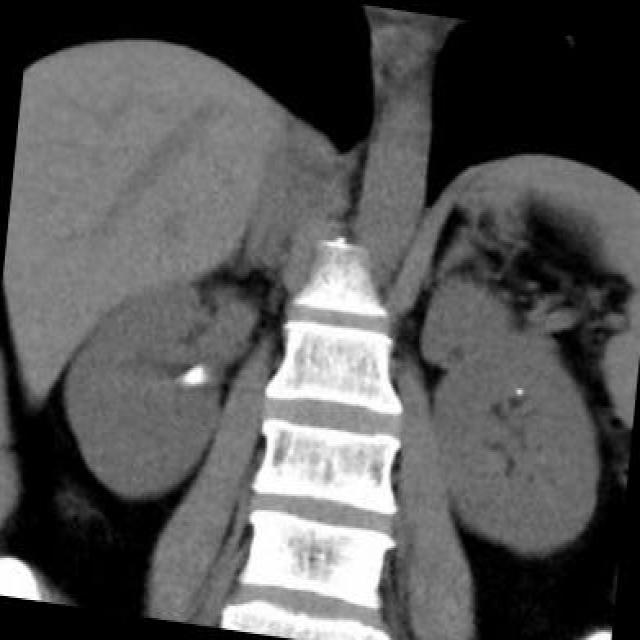Tas_Var: (180, 358, 206, 392), (512, 383, 526, 399)
